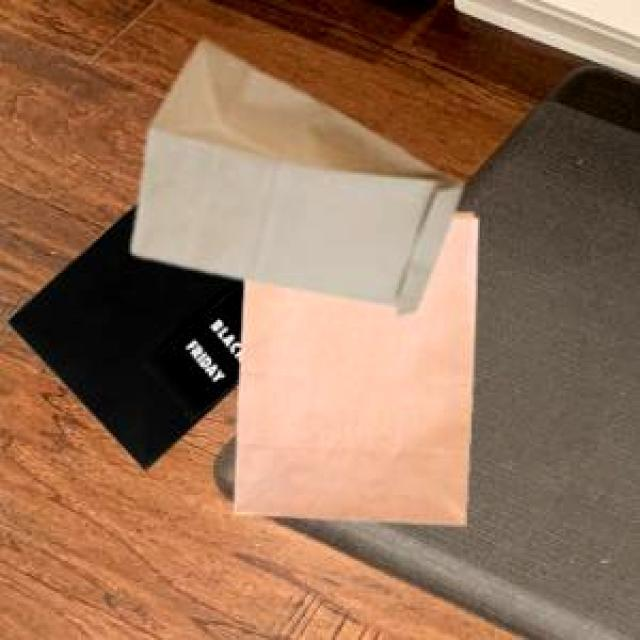Paper_Bag: (129, 38, 458, 312), (232, 212, 474, 522), (5, 199, 242, 466)
